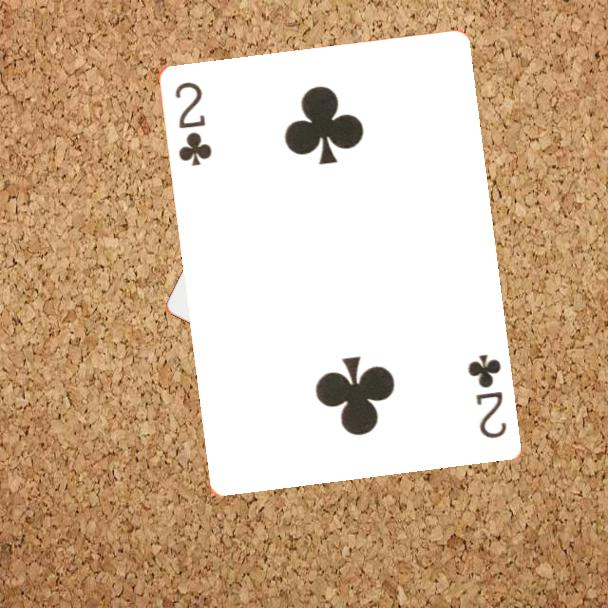c02: (463, 350, 509, 441), (171, 78, 214, 169)
